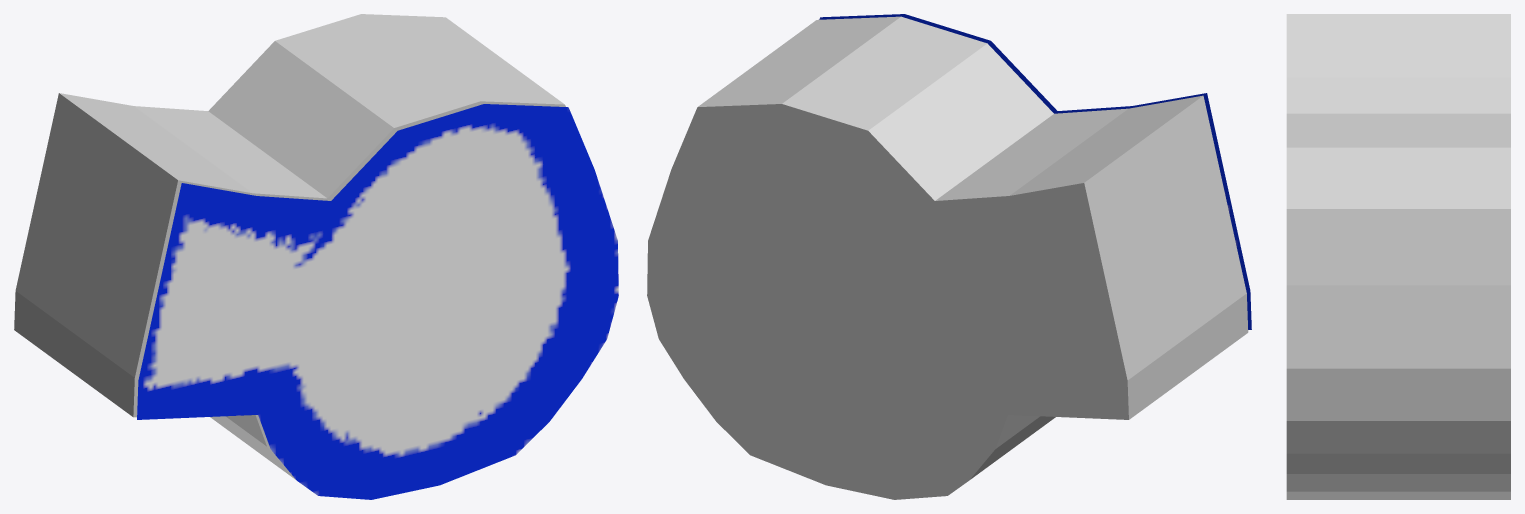
3 views of the same model, side by side, from view 1: azimuth 30°, elevation 25°; view 2: azimuth 150°, elevation 25°; view 3: azimuth 270°, elevation 25° (orthographic). The views are drawn at different scales.
Visible parts, largest first — view 1: In_6_1, In_6_0; view 2: In_6_0, In_6_1; view 3: In_6_0.
Boxes of the visible parts, x1,y1,x2,y2 form: In_6_1: (137, 104, 618, 499); In_6_0: (14, 14, 565, 479); In_6_0: (647, 16, 1248, 499); In_6_1: (819, 14, 1251, 329); In_6_0: (1286, 14, 1510, 499).
Size of the model in its own units: 1.17 by 0.8574 by 0.515.
Materials: 2 (1 with a texture image).
